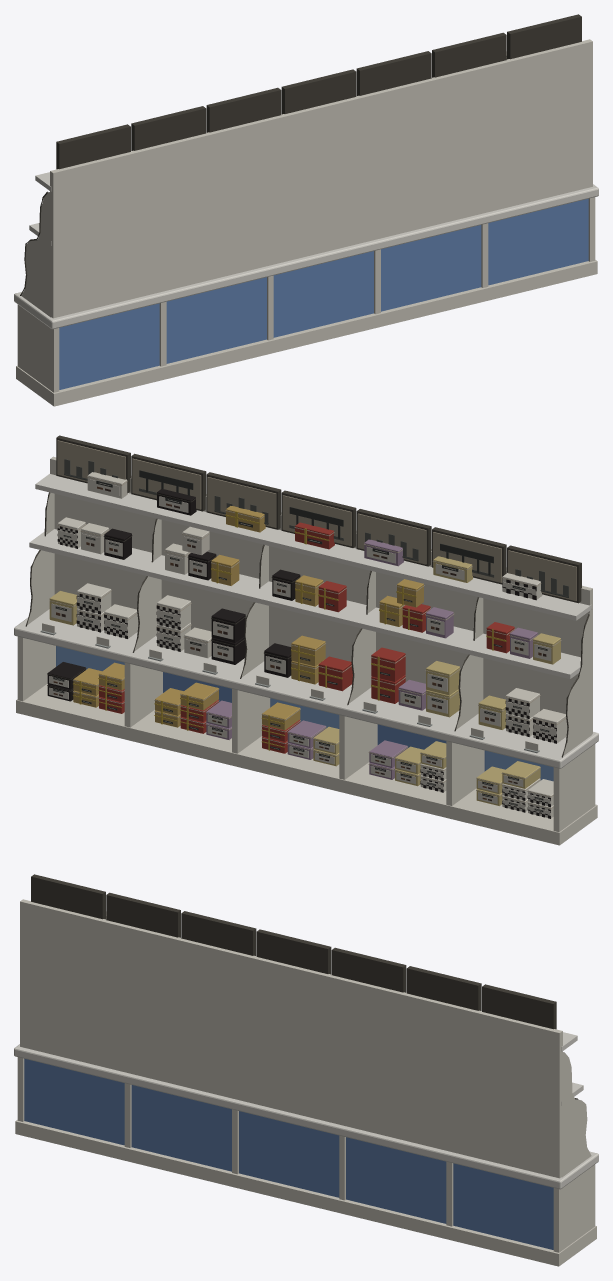
The model's file is gifts.glb.
The picture shows the model from 3 angles, top to bottom: view 1: azimuth 30°, elevation 25°; view 2: azimuth 150°, elevation 25°; view 3: azimuth 330°, elevation 25°; orthographic projection.
Parts seen in each view (by area): view 1: Sees_gifts; view 2: Sees_gifts; view 3: Sees_gifts.
Boxes of the visible parts, x1,y1,x2,y2 form: Sees_gifts: (14, 14, 598, 406); Sees_gifts: (14, 435, 598, 845); Sees_gifts: (14, 874, 598, 1266).
Size of the model in its own units: 5.72 by 2.56 by 0.7018.
